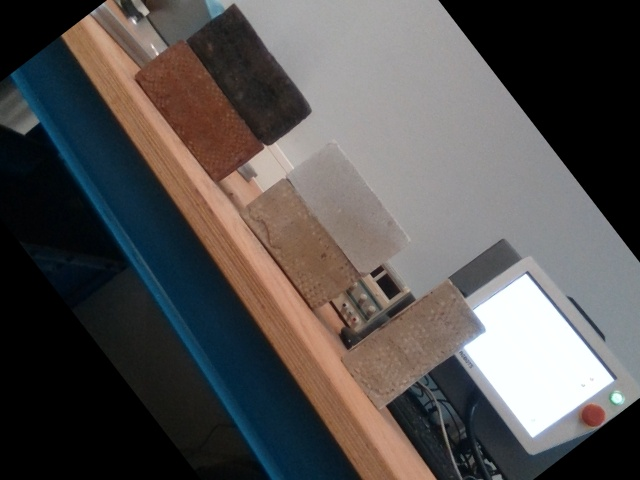brick: (343, 282, 484, 410), (135, 43, 262, 183), (187, 8, 312, 146), (286, 143, 409, 278), (241, 180, 357, 309)
